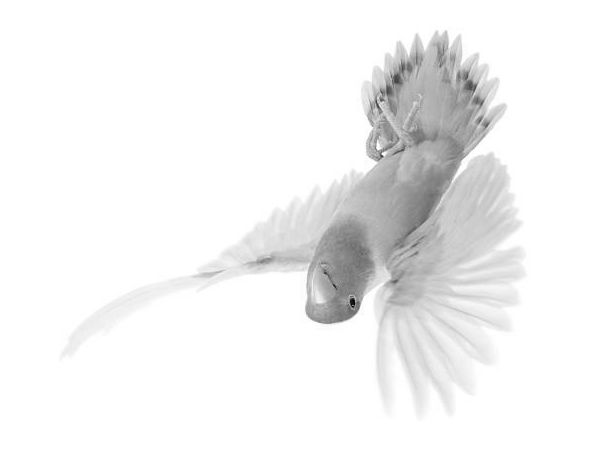Bird: (53, 23, 530, 428)
